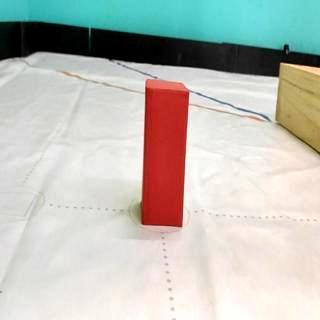redbox: (142, 80, 188, 230)
